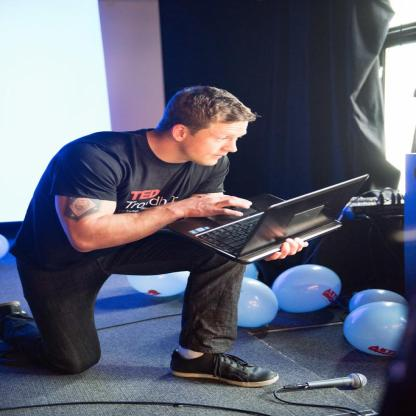board: (155, 180, 366, 266)
